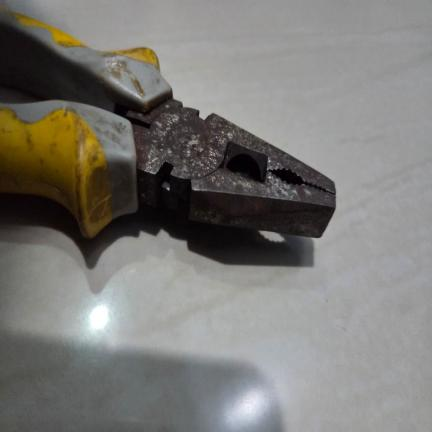karat: (136, 101, 340, 236)
